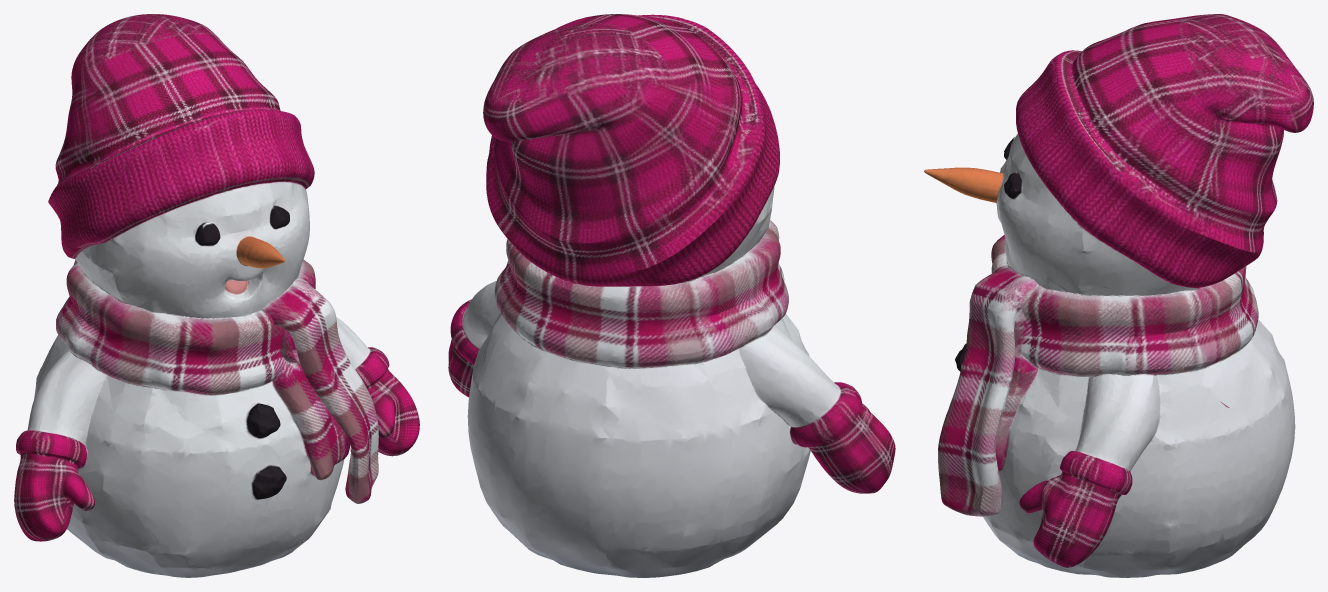
File: snowman.glb
The picture shows the model from 3 angles, left to right: view 1: azimuth 30°, elevation 25°; view 2: azimuth 150°, elevation 25°; view 3: azimuth 270°, elevation 25°; orthographic projection. The views are drawn at different scales.
Visible parts, largest first — view 1: output_unwrapped; view 2: output_unwrapped; view 3: output_unwrapped.
Boxes of the visible parts, x1=… form: output_unwrapped: x1=14, y1=14, x2=419, y2=577; output_unwrapped: x1=448, y1=14, x2=895, y2=577; output_unwrapped: x1=924, y1=14, x2=1313, y2=577.
Bounding box in the file's own units: 1.6 × 1.9 × 1.28.
Materials: 1 (1 with a texture image).
